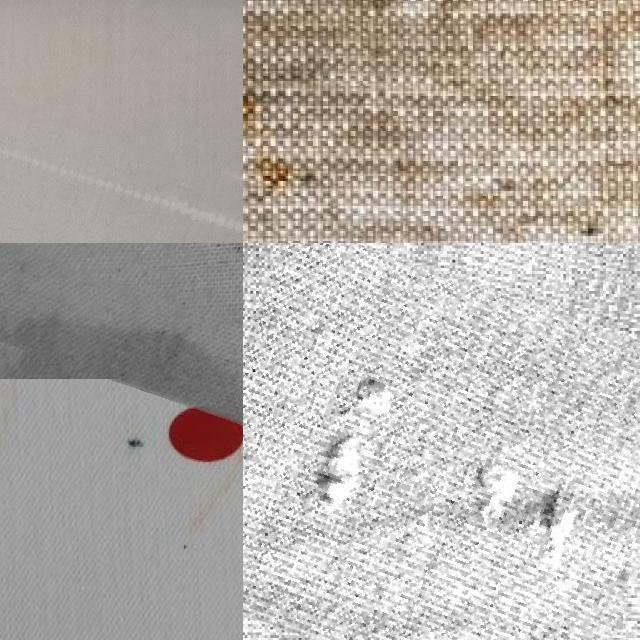Hole: (0, 259, 243, 403), (77, 388, 164, 502)
Thread_other: (243, 250, 640, 640), (0, 87, 243, 243)
